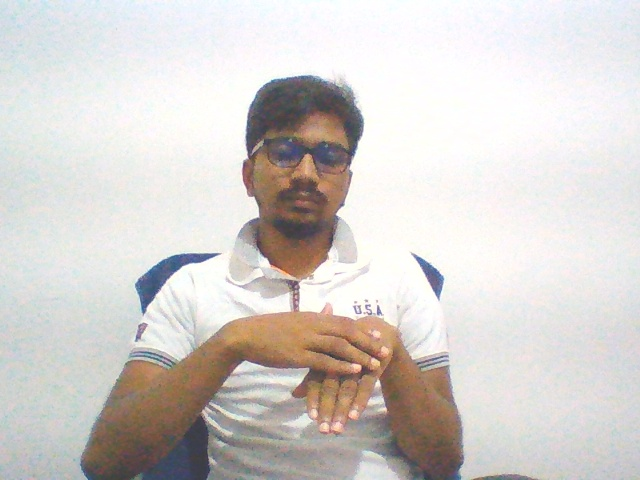pineapple: (217, 295, 406, 445)
